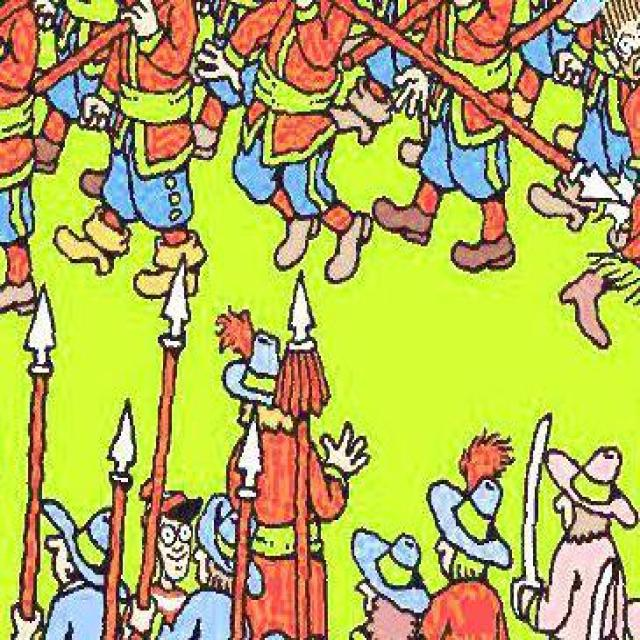waldo: (136, 476, 202, 583)
